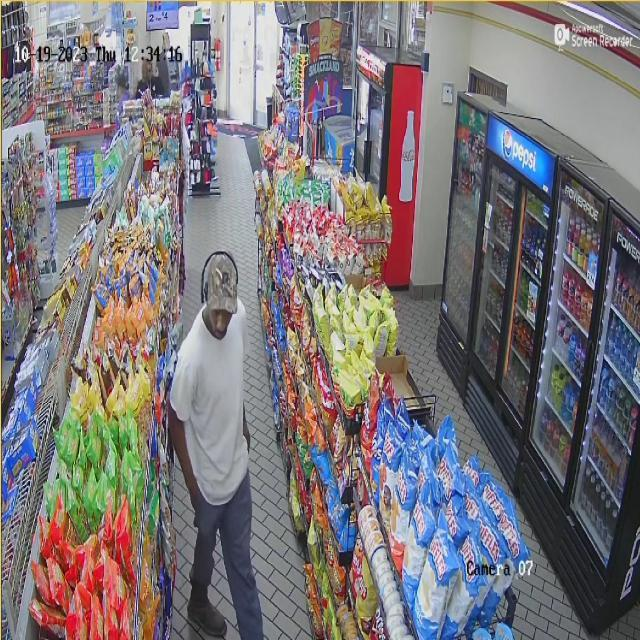Normal: (165, 235, 269, 640)
